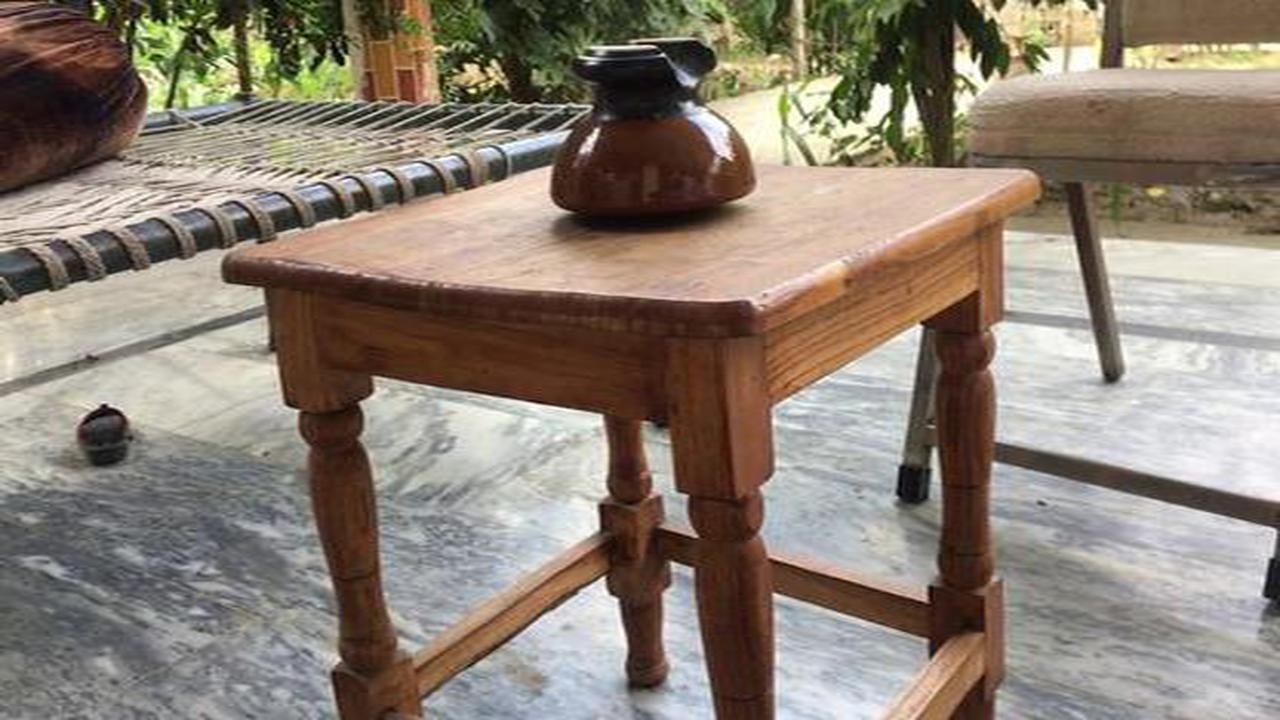insulator_pin: (530, 35, 776, 229)
